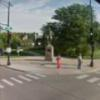crosswalks: (0, 72, 47, 89)
